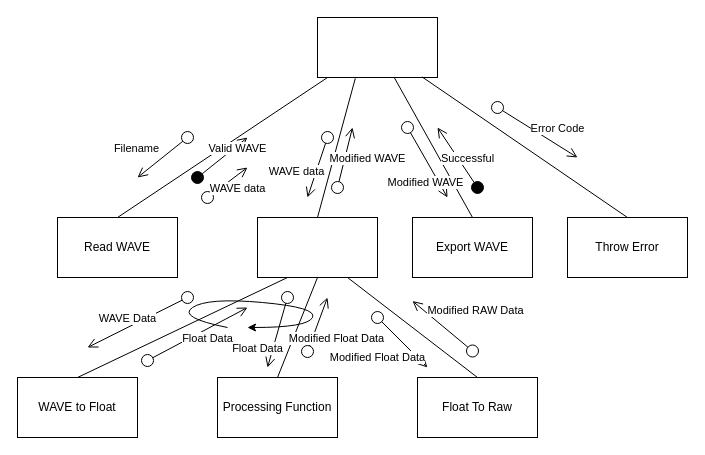
This 705x455 diagram has some shape labels left out. The shapes that lost their labels are listed below. From the top down, each one's box as (x1, y1, x2, y2) in pixels, then its label:
(316, 16, 438, 78): Main
(256, 216, 378, 278): Process Audio
